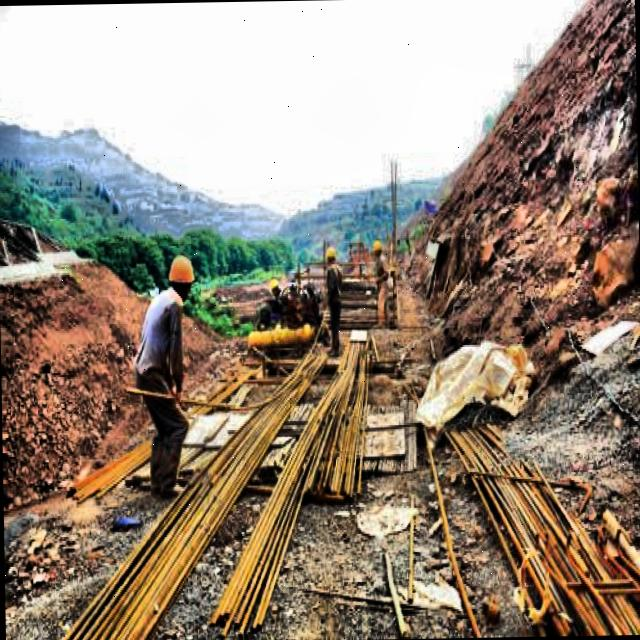helmet: (163, 250, 196, 308), (318, 241, 338, 272), (364, 236, 384, 265), (264, 274, 282, 302)
